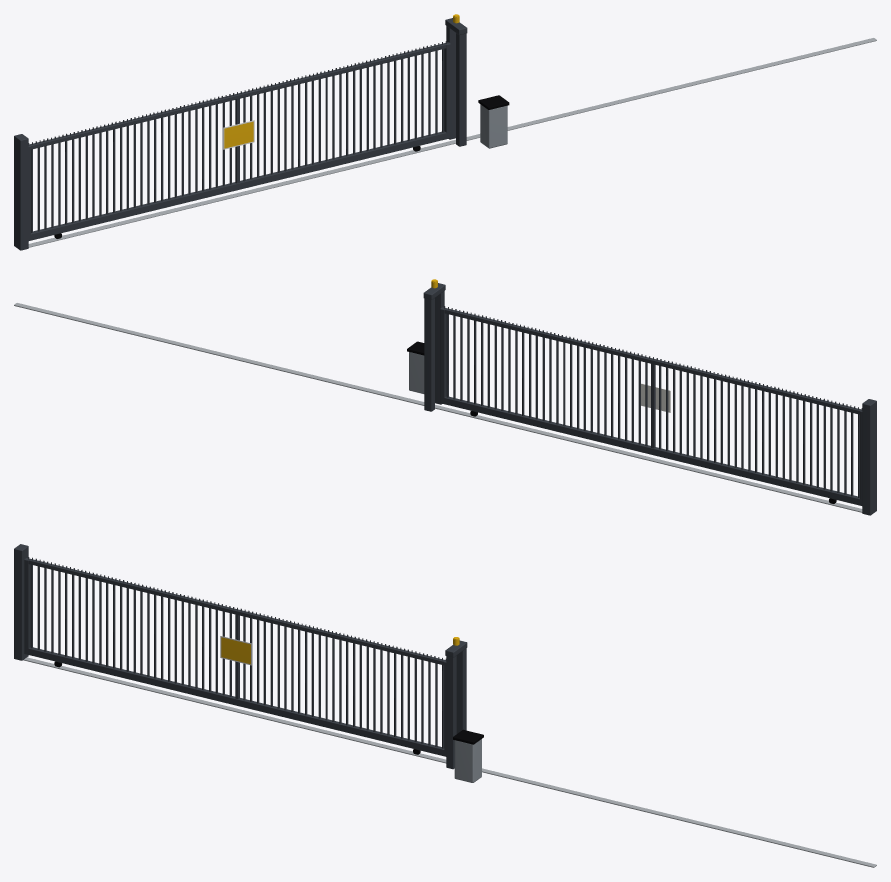
Rendered from gate.glb.
The picture shows the model from 3 angles, top to bottom: view 1: azimuth 30°, elevation 25°; view 2: azimuth 150°, elevation 25°; view 3: azimuth 330°, elevation 25°; orthographic projection.
Visible parts, largest first — view 1: Panel, Frame; view 2: Panel, Frame; view 3: Panel, Frame.
Boxes of the visible parts, x1=… form: Panel: x1=28, y1=41, x2=450, y2=240; Frame: x1=14, y1=14, x2=876, y2=250; Panel: x1=440, y1=306, x2=862, y2=505; Frame: x1=14, y1=279, x2=876, y2=515; Panel: x1=24, y1=557, x2=446, y2=756; Frame: x1=14, y1=544, x2=876, y2=867.
Size of the model in its own units: 16.28 by 2.29 by 0.82.
